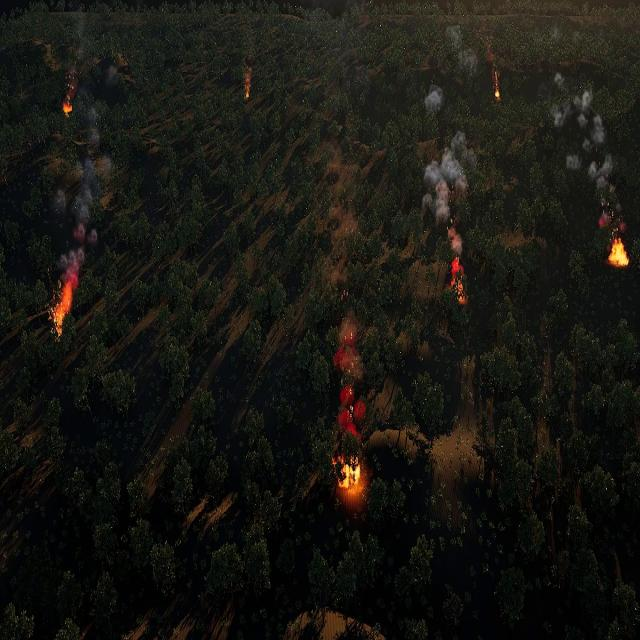fire: (51, 280, 75, 334), (334, 456, 362, 492), (450, 257, 467, 304), (611, 240, 630, 268), (493, 69, 500, 100), (243, 70, 250, 98), (63, 99, 73, 115), (342, 289, 349, 301)
smoke: (50, 88, 108, 288), (549, 74, 615, 191), (421, 129, 474, 253), (334, 313, 368, 442), (62, 0, 87, 92), (449, 26, 477, 76), (599, 206, 628, 235), (423, 84, 443, 112), (448, 226, 464, 254), (105, 65, 118, 88)
